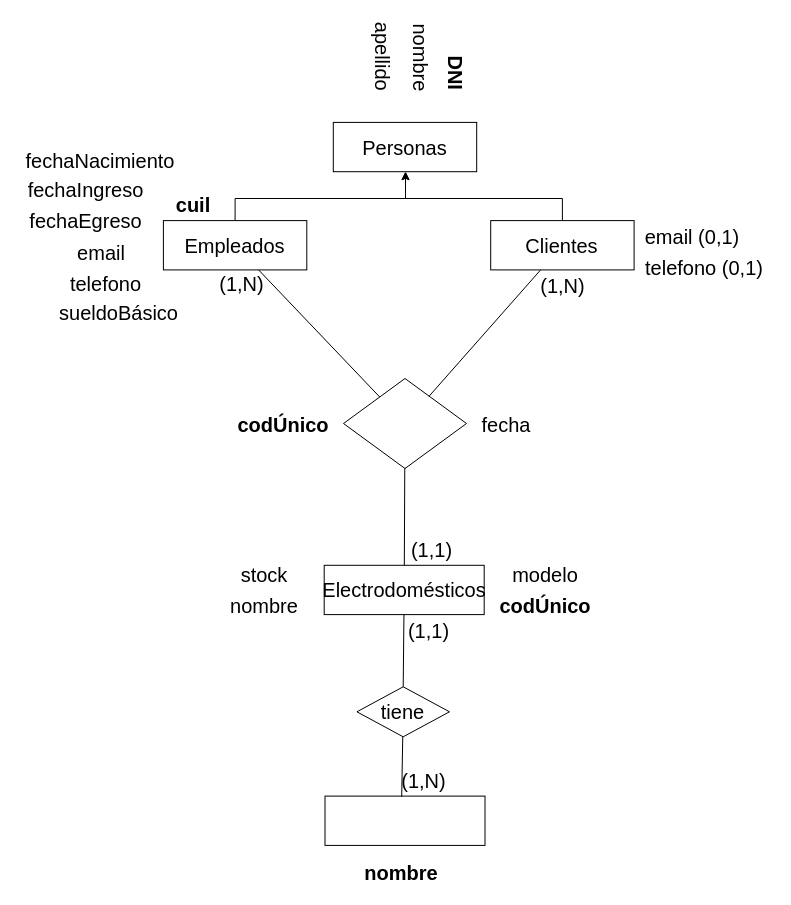
Image size: 791x905. Some labels were removed from this diagram. The shapes that lost their labels are listed below. From the top down, each one's centre as x and y in pixels, then its label:
At (x=404, y=423): "vende".
At (x=404, y=820): "Categorías".
